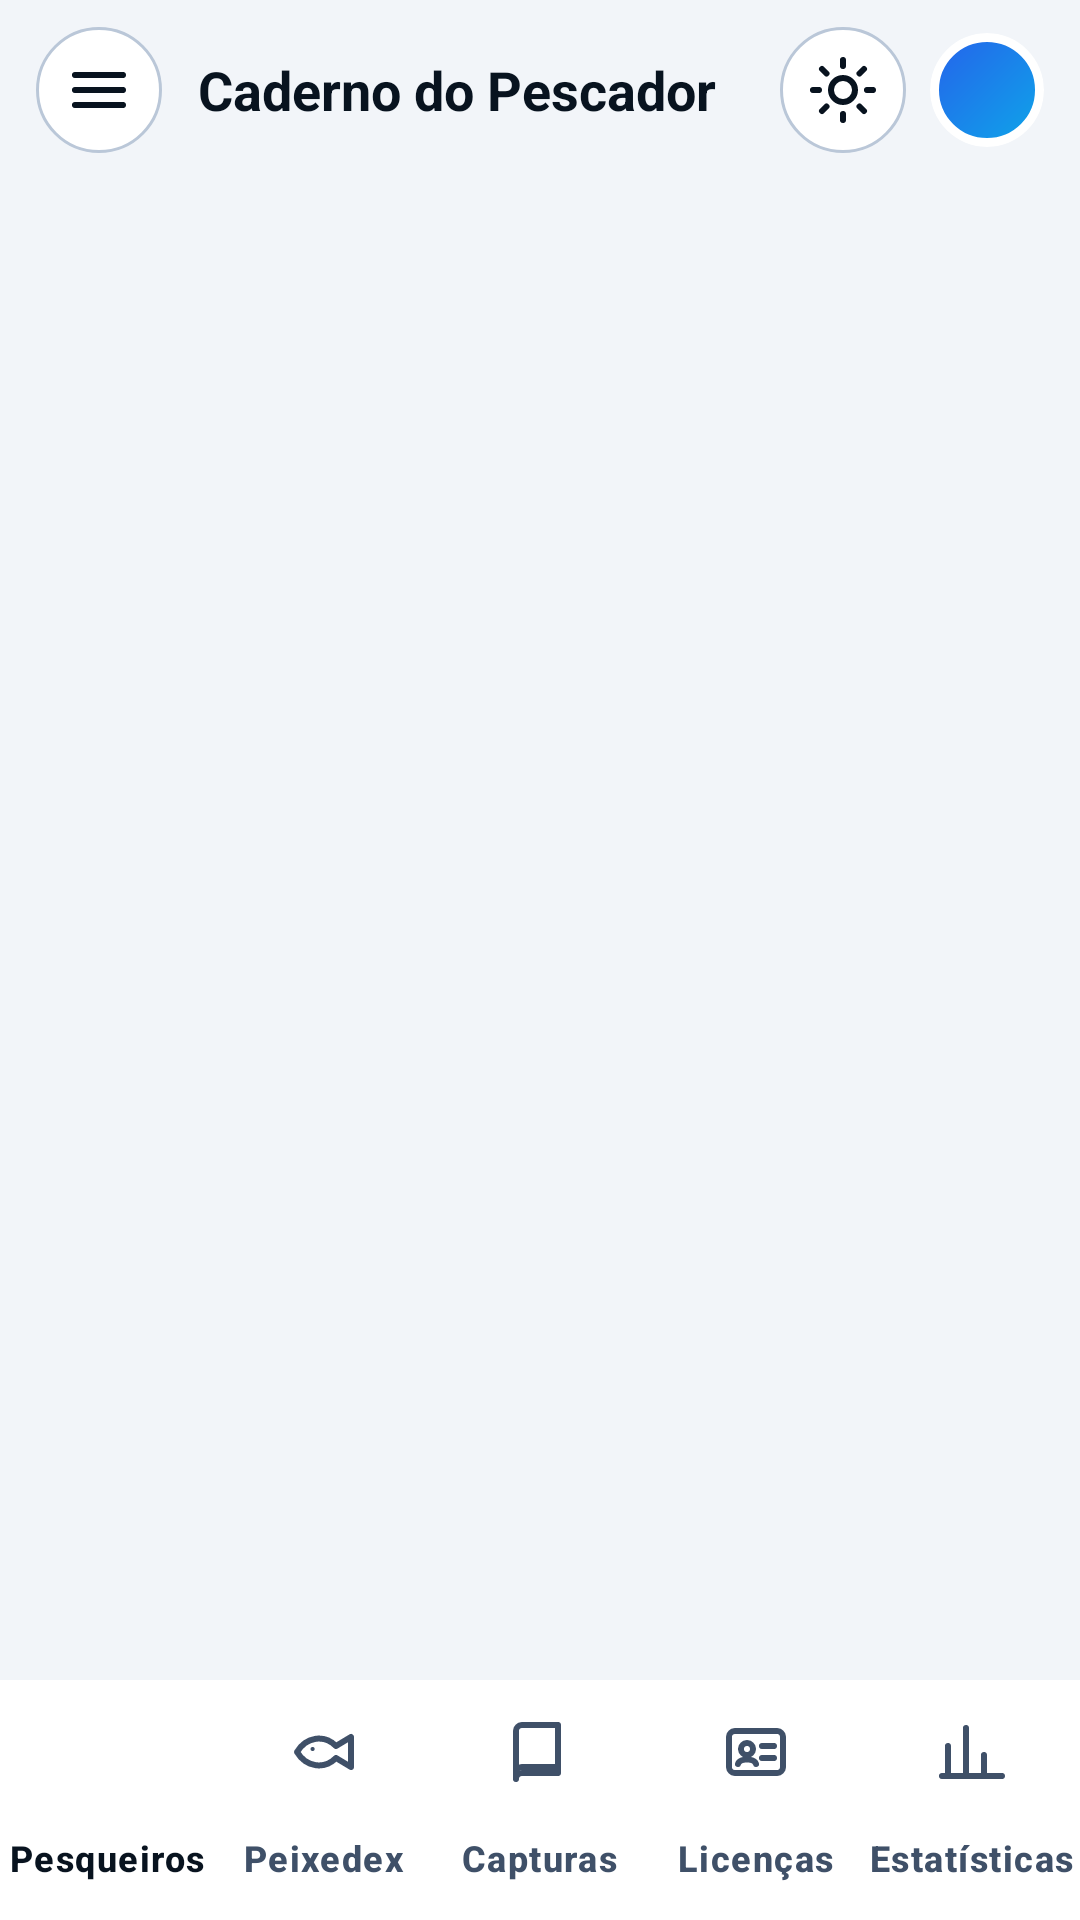

Icon click points for this 1080 × 1920 phone screenshot, format (x,y):
Abrir menu: (99,90)
Modo claro / escuro: (843,90)
